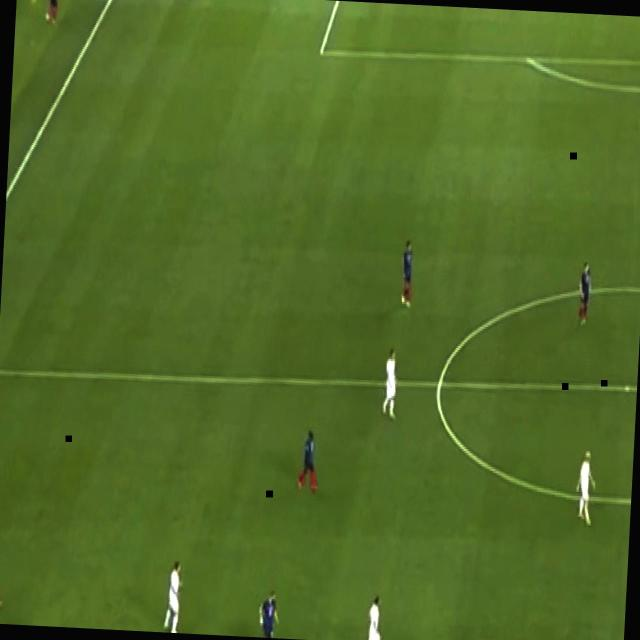player-white: (572, 449, 598, 531), (295, 427, 323, 495), (160, 559, 184, 633), (356, 591, 390, 640), (380, 347, 401, 424), (574, 258, 594, 328), (398, 239, 416, 309), (255, 588, 280, 638), (0, 534, 6, 615)
